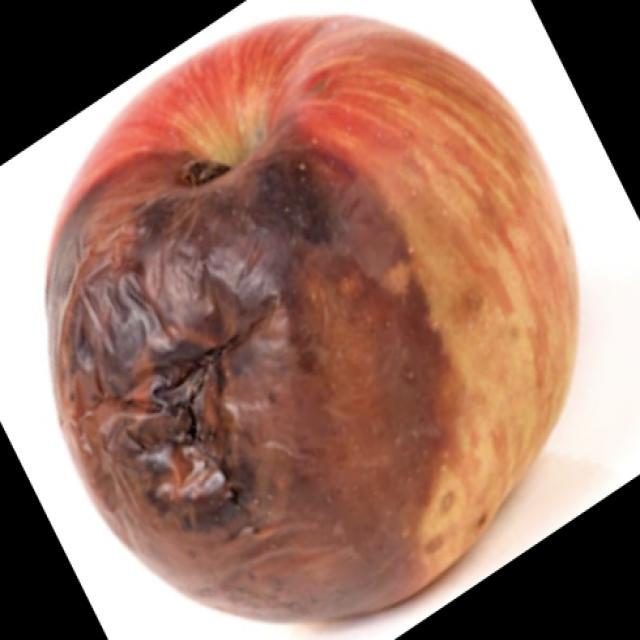Rotten: (72, 15, 575, 602)
